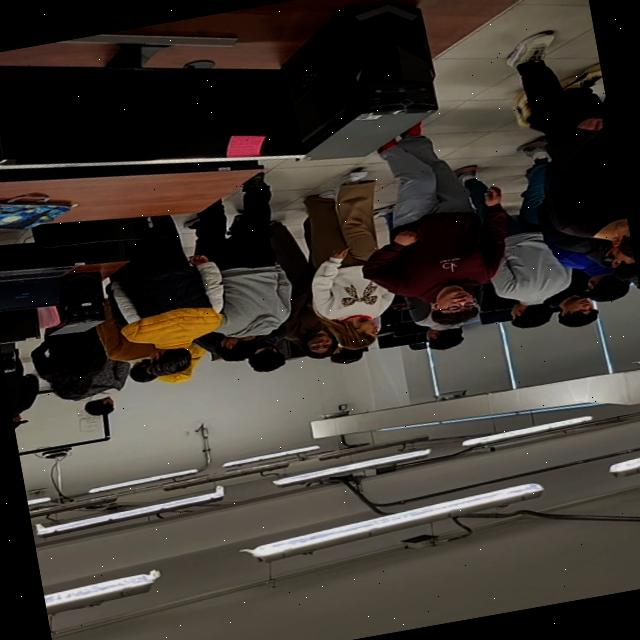Persona: (330, 120, 502, 343), (185, 192, 302, 360), (546, 68, 632, 262), (307, 174, 400, 351), (116, 230, 218, 375), (491, 218, 572, 332), (41, 325, 133, 398), (284, 286, 334, 364)
